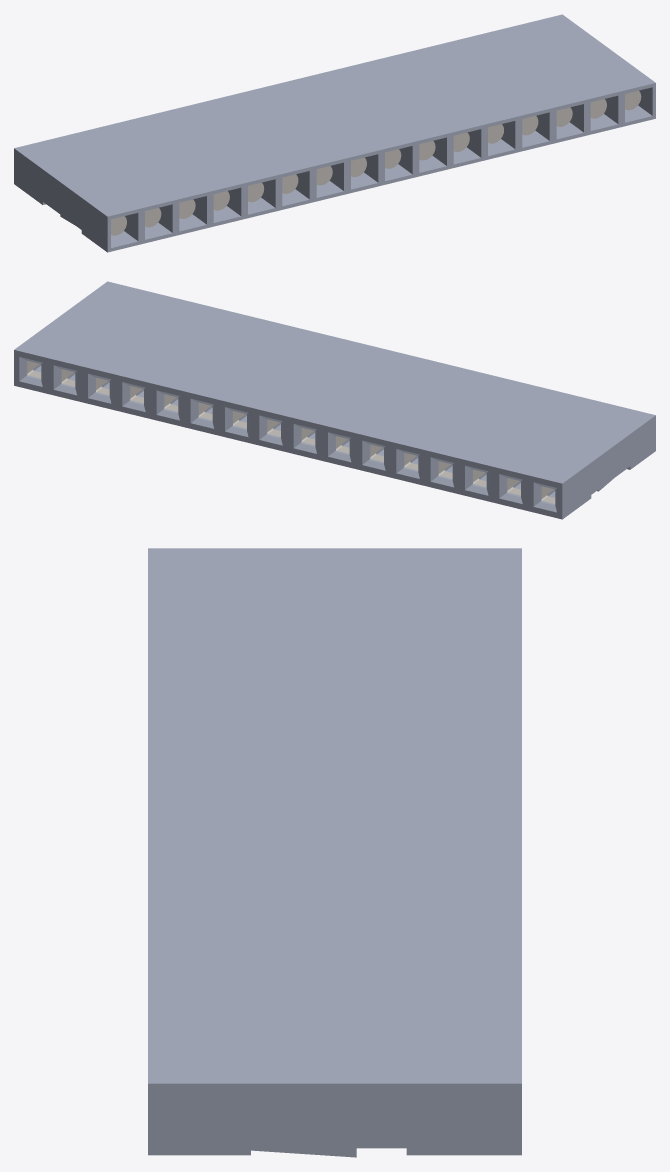
3 renders of one model, top to bottom at view 1: azimuth 30°, elevation 25°; view 2: azimuth 150°, elevation 25°; view 3: azimuth 270°, elevation 25°, orthographic. The views are drawn at different scales.
Visible parts, largest first — view 1: DS1071-1x16; view 2: DS1071-1x16; view 3: DS1071-1x16.
Boxes of the visible parts, bbox=[...] form: DS1071-1x16: bbox=[14, 14, 655, 252]; DS1071-1x16: bbox=[14, 281, 655, 519]; DS1071-1x16: bbox=[148, 548, 521, 1157].
Bounding box in the file's own units: 0.0176 × 0.00121 × 0.00519.
